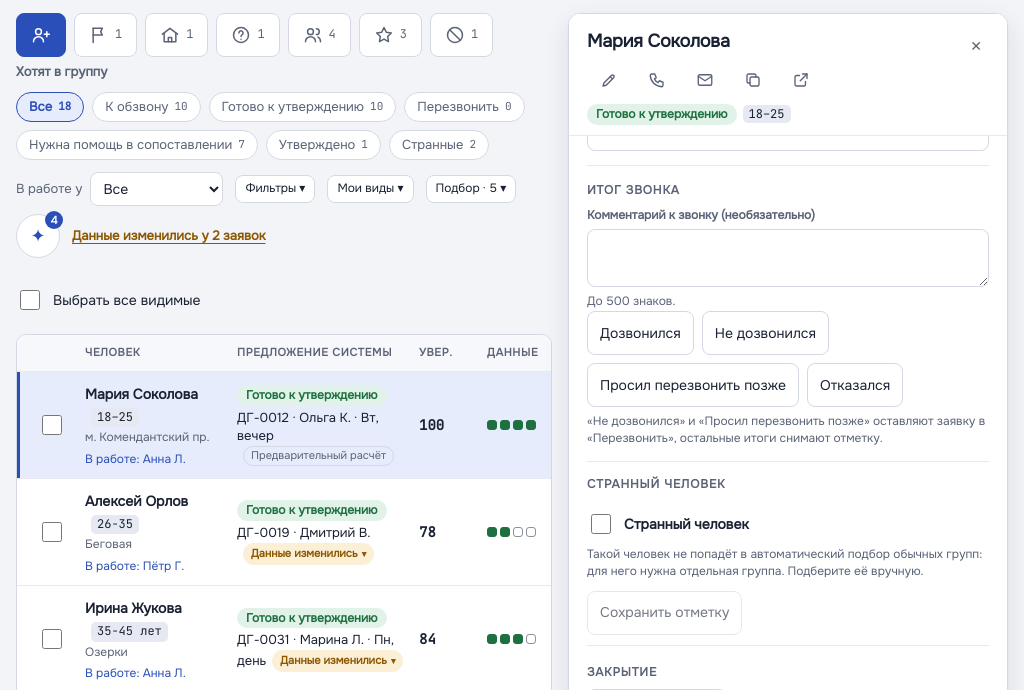
Карточка заявки: итог звонка › кнопка «Отказался» шлёт result=refused и подтверждает «Записано: отказался.»
The width and height of the screenshot is (1024, 690).
(page scrolled)
Click the button "Отказался".
click(855, 385)  # box [807, 363, 903, 407]
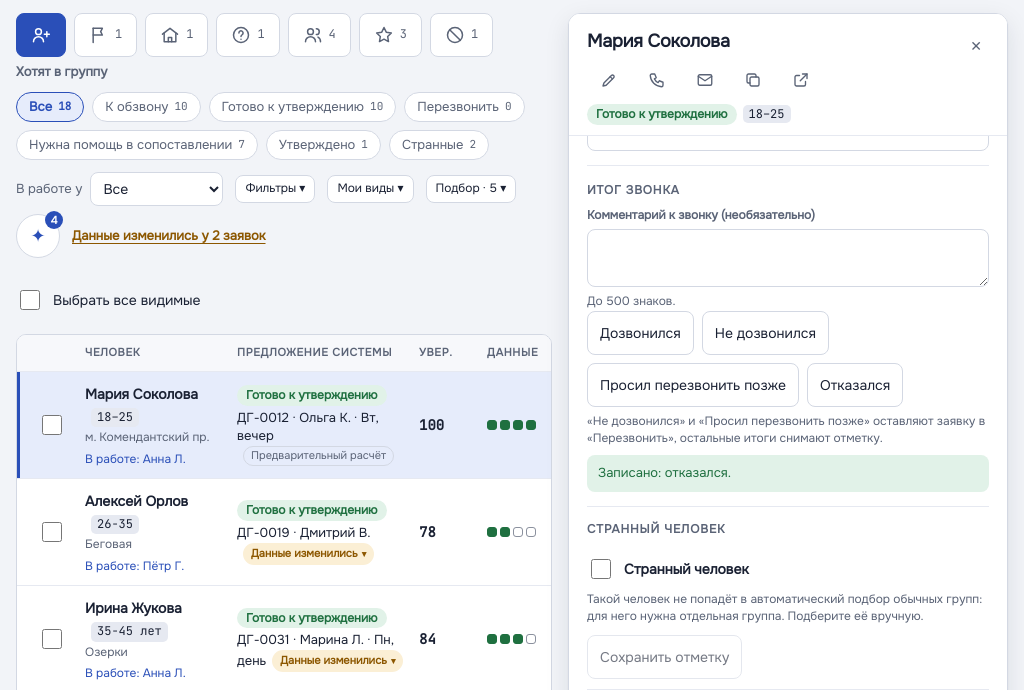
Now the text "Записано: отказался." is shown, box [587, 455, 989, 492]
